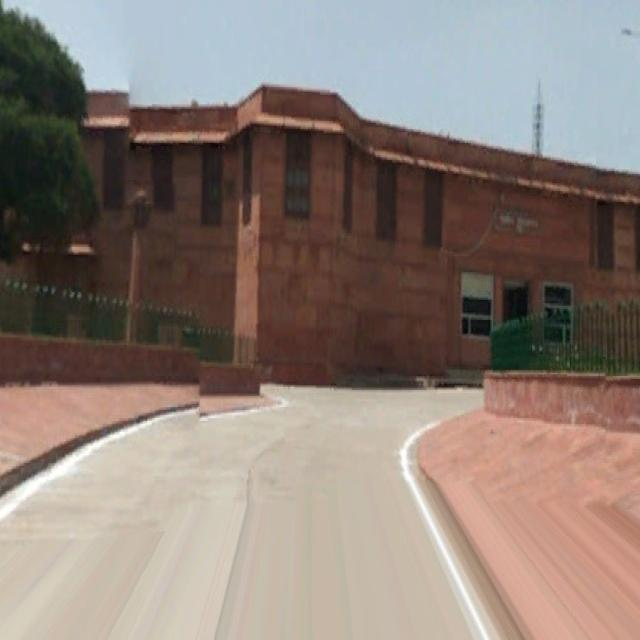objects-ruins-artifacts: (268, 111, 550, 349), (21, 42, 142, 309)
